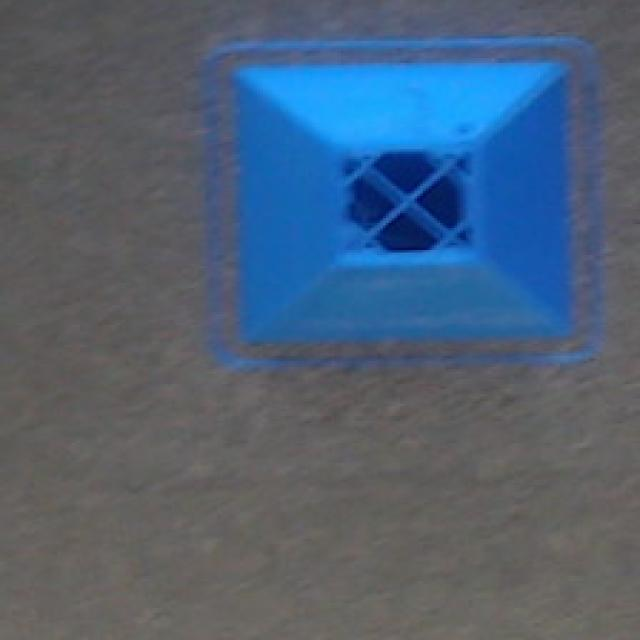mistake: (212, 37, 597, 366)
